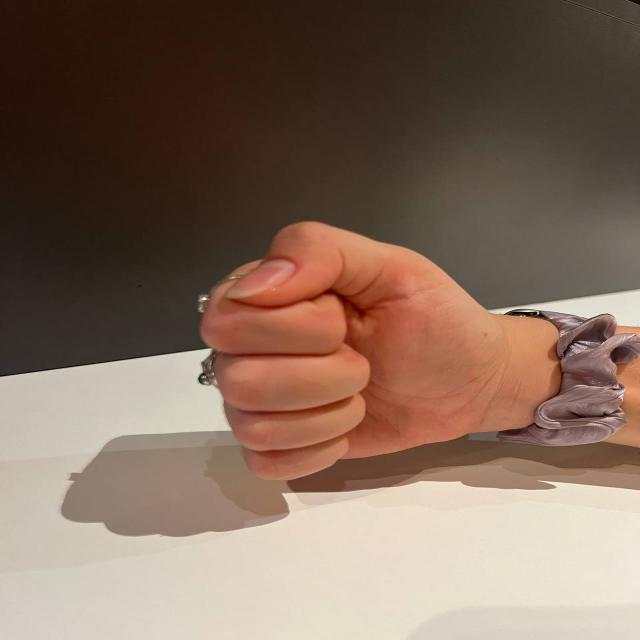a: (191, 207, 509, 433)
